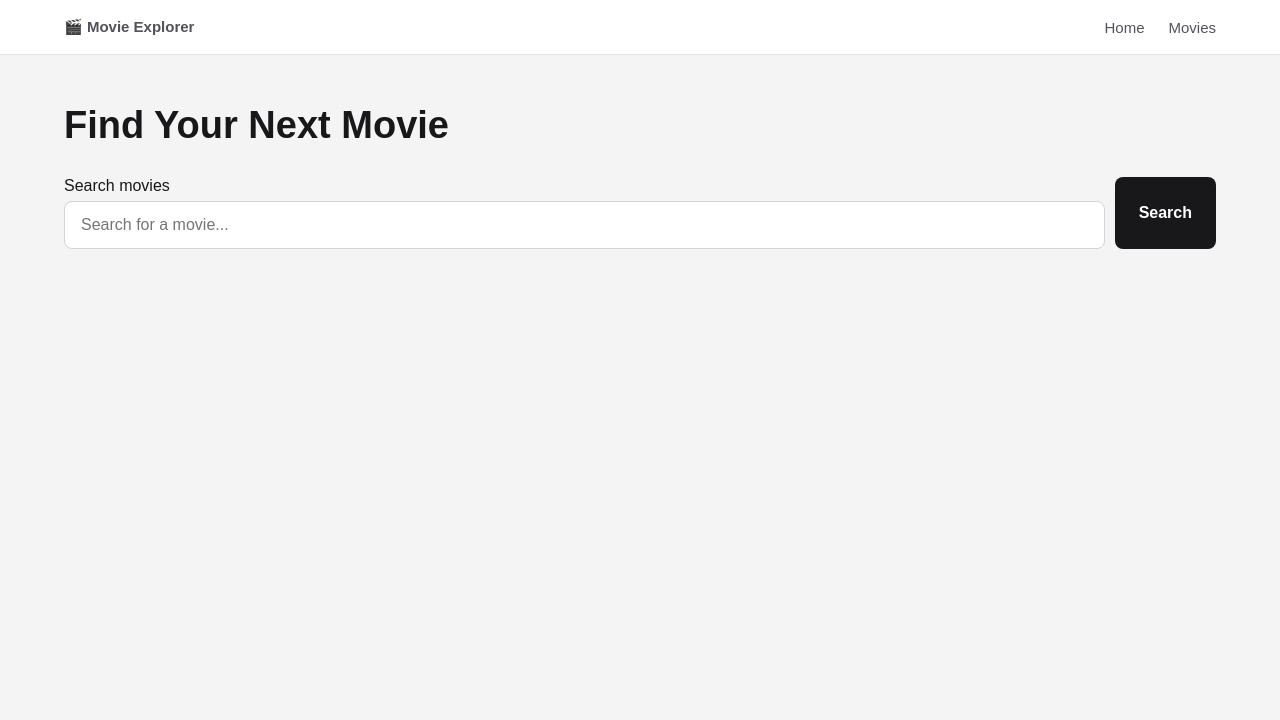
Test: App integration tests › searches for a movie and displays the movie card
The width and height of the screenshot is (1280, 720).
Step 1. Type "Inception" into the field with placeholder "Search for a movie..." → (584, 225), box [64,201,1105,249]
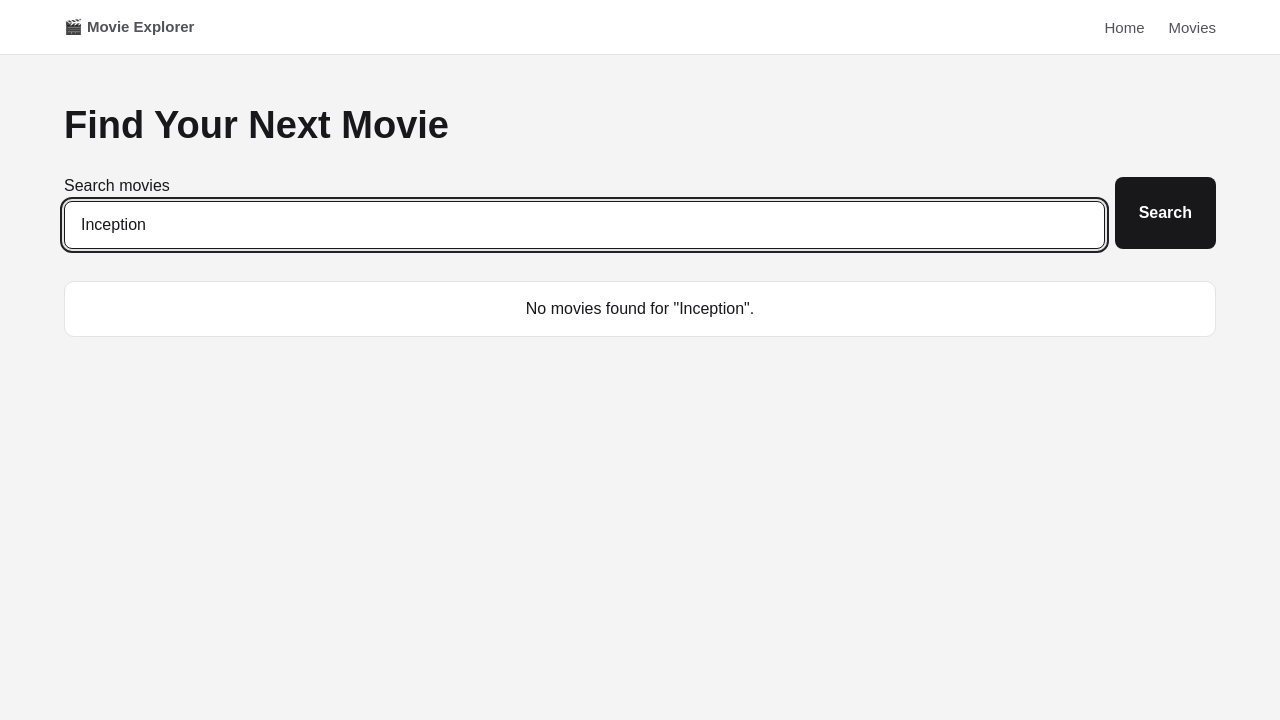
Step 2. Click the button "Search" → (1165, 213), box [1115,177,1216,249]
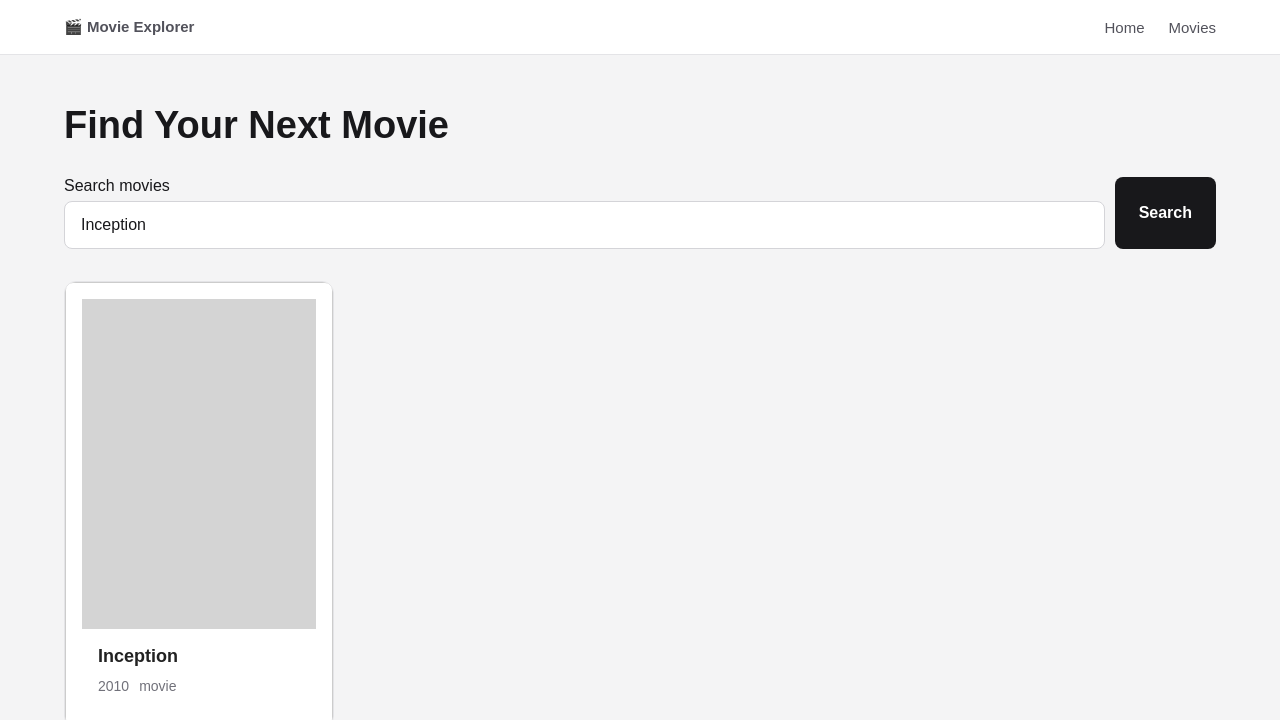
Expected: the heading "Inception" is shown, [98,646,178,666]
Expected: the text "movie" is shown, [139,678,177,694]
Expected: the text "2010" is shown, [98,678,129,694]
